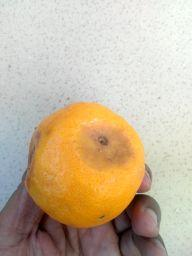Unripe: (25, 101, 143, 227)
